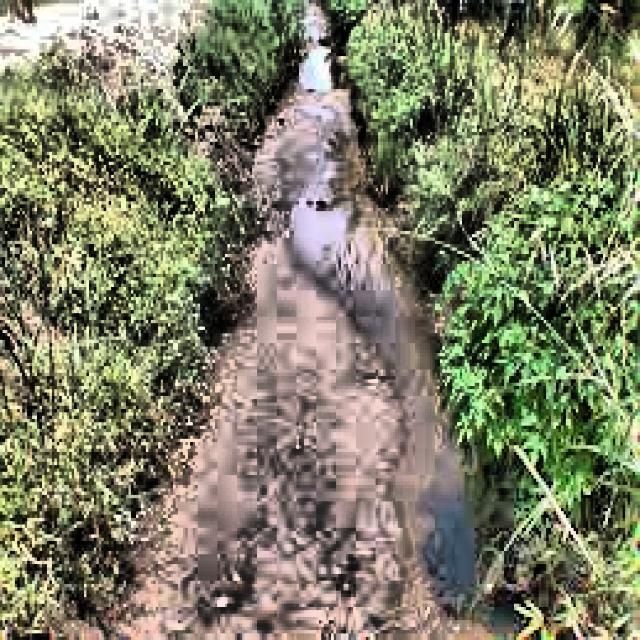Alligator Cracks: (121, 3, 487, 637)
